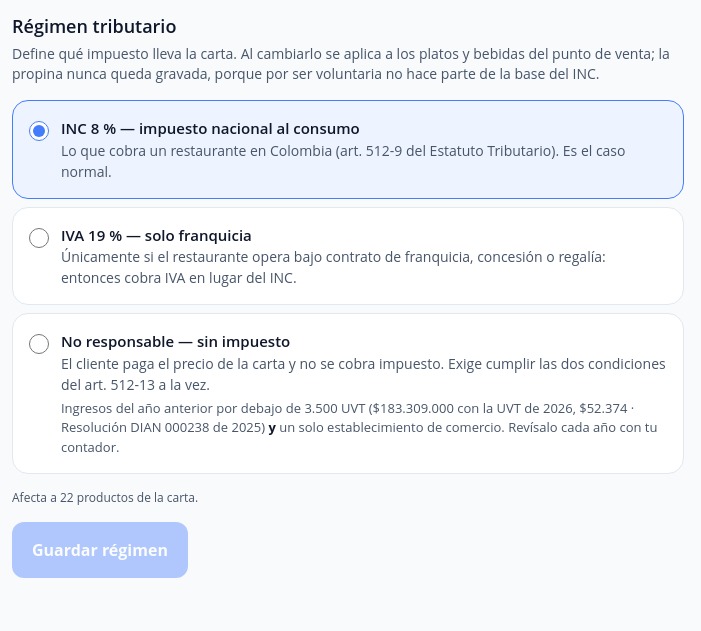
Test: sends the chosen regime and reports what it now affects
Click the radio button labelled "No responsable" at [39, 344], box top-left (29, 334), bottom-right (49, 354)
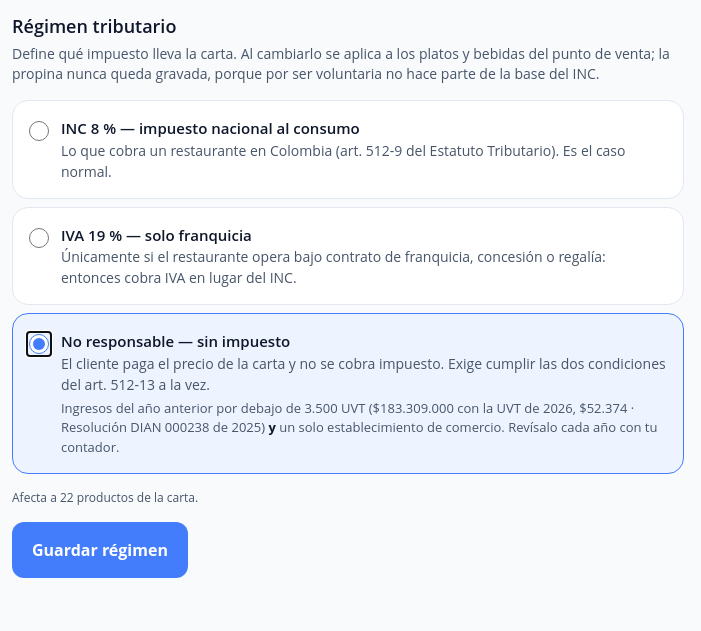
Click the button "Guardar régimen" at [100, 550], box top-left (12, 522), bottom-right (188, 578)
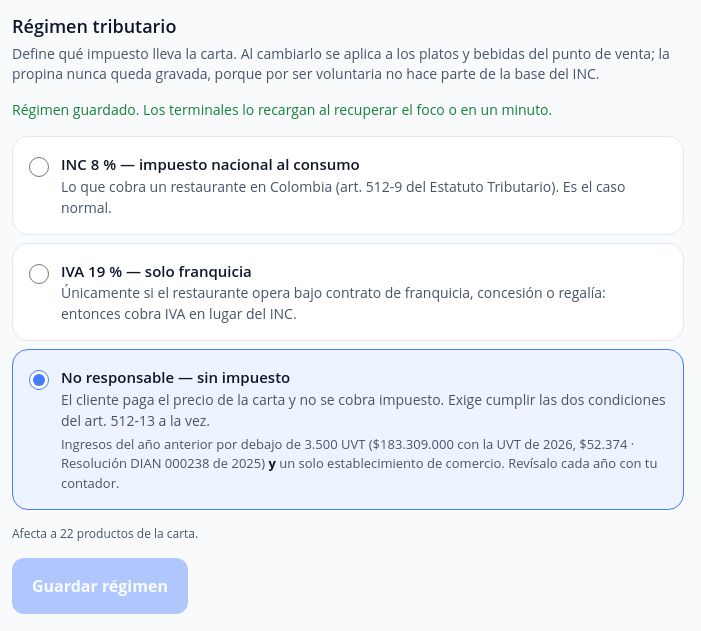
Result: the message shows "Régimen guardado" at top-left (12, 100), bottom-right (552, 119)
